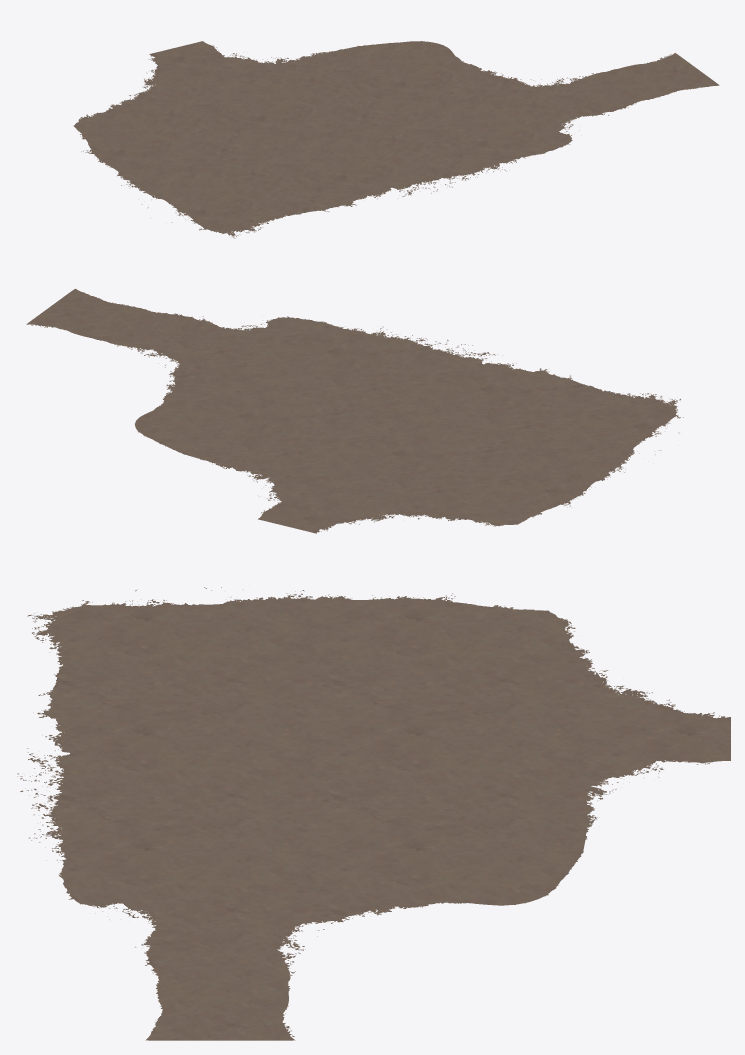
Rendered from mad_field_map.fbx.
3 views of the same model, one above another, from view 1: azimuth 30°, elevation 25°; view 2: azimuth 150°, elevation 25°; view 3: azimuth 270°, elevation 25° (orthographic). The views are drawn at different scales.
Parts seen in each view (by area): view 1: mad_fieldDD; view 2: mad_fieldDD; view 3: mad_fieldDD.
Part boxes in pixels (x1=…): mad_fieldDD: x1=73, y1=41, x2=719, y2=238; mad_fieldDD: x1=26, y1=288, x2=683, y2=533; mad_fieldDD: x1=17, y1=587, x2=730, y2=1040.
Bounding box in the file's own units: 3632 × 0 × 2397.
1 material, 1 textured.
